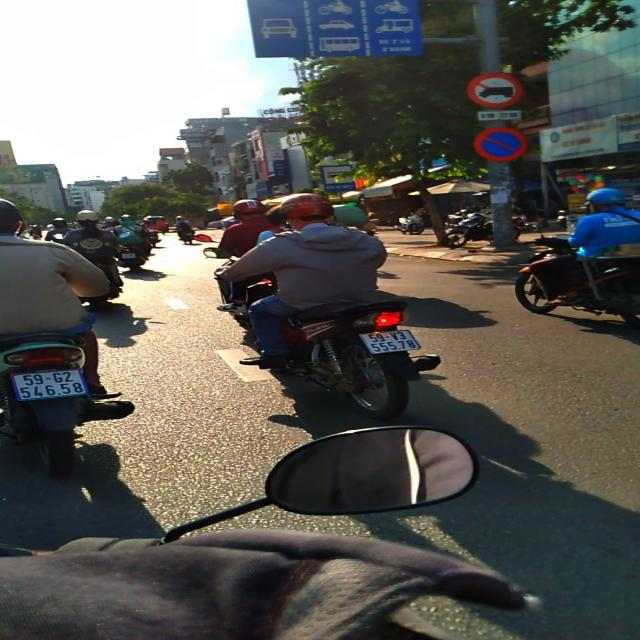Ben xe buyt: (319, 164, 356, 192)
Cam con lai: (466, 73, 523, 109)
Cam do: (474, 126, 527, 162)
